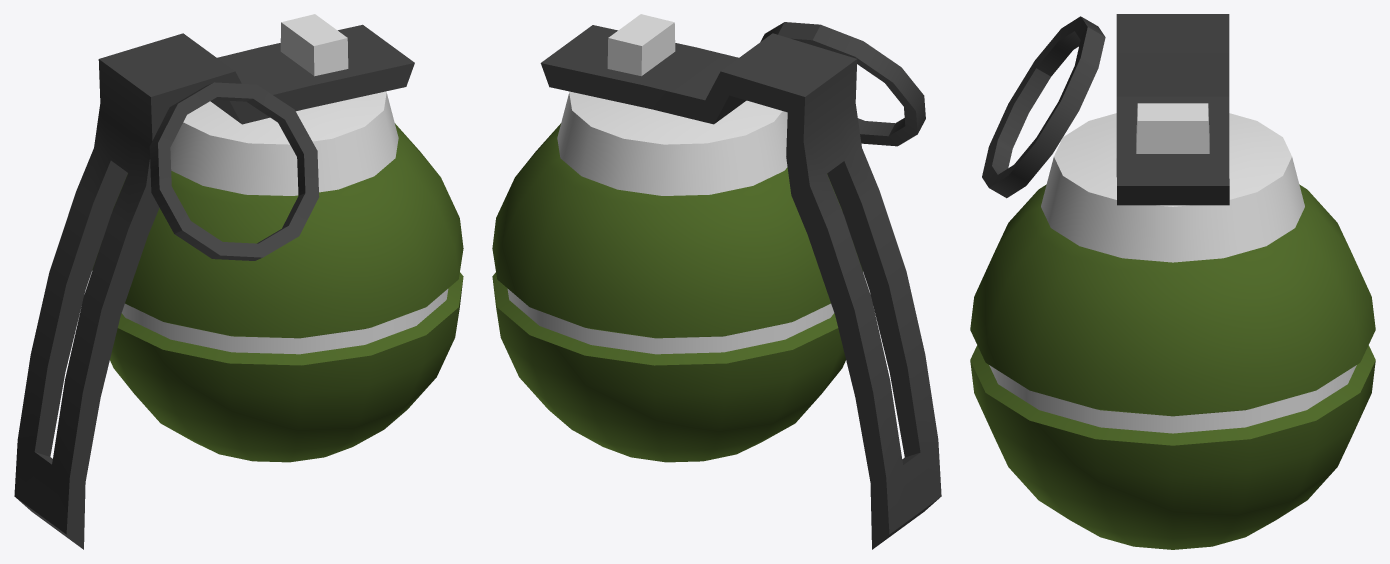
The model's file is grenade.glb.
The picture shows the model from 3 angles, left to right: view 1: azimuth 30°, elevation 25°; view 2: azimuth 150°, elevation 25°; view 3: azimuth 270°, elevation 25°; orthographic projection. The views are drawn at different scales.
Parts seen in each view (by area): view 1: Grenade; view 2: Grenade; view 3: Grenade.
Part boxes in pixels (<box>): Grenade: <box>14,14,463,549</box>; Grenade: <box>492,14,941,549</box>; Grenade: <box>970,14,1375,549</box>.
Bounding box in the file's own units: 0.5637 × 0.6051 × 0.459.
